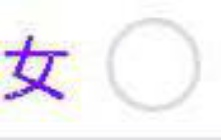CheckBox: (1, 1, 220, 139)
